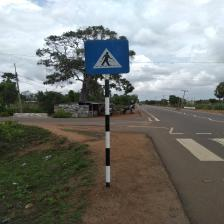blueboard: (83, 38, 130, 75)
crossing: (175, 137, 223, 162)
